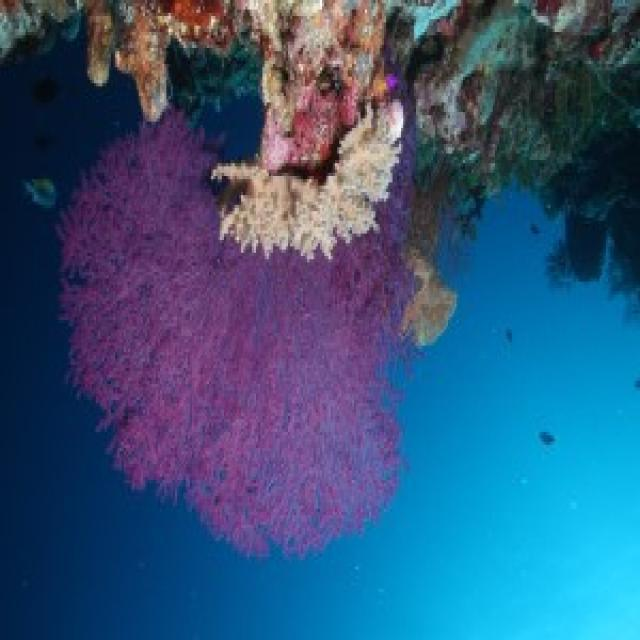Bleached: (218, 1, 405, 258), (407, 251, 458, 345)
Healthy: (42, 118, 446, 562), (419, 1, 638, 185), (88, 1, 218, 118)
